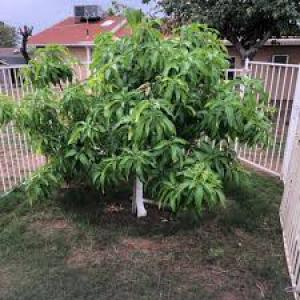Tree: (17, 13, 272, 216)
